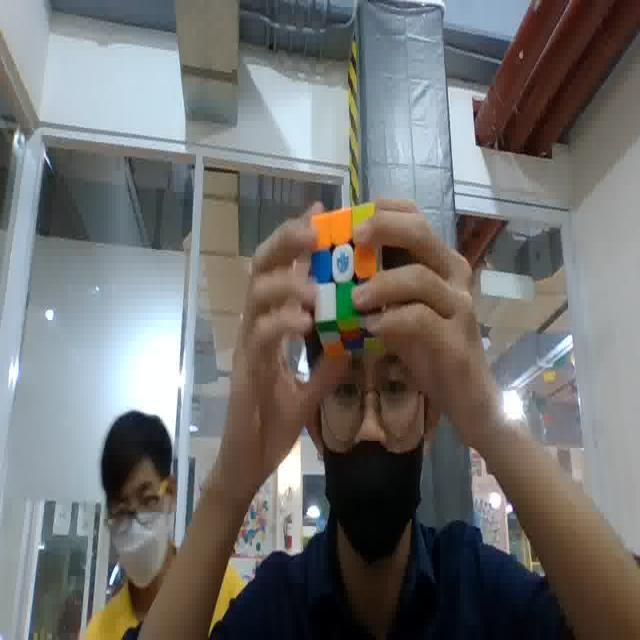Rub: (310, 204, 394, 355)
